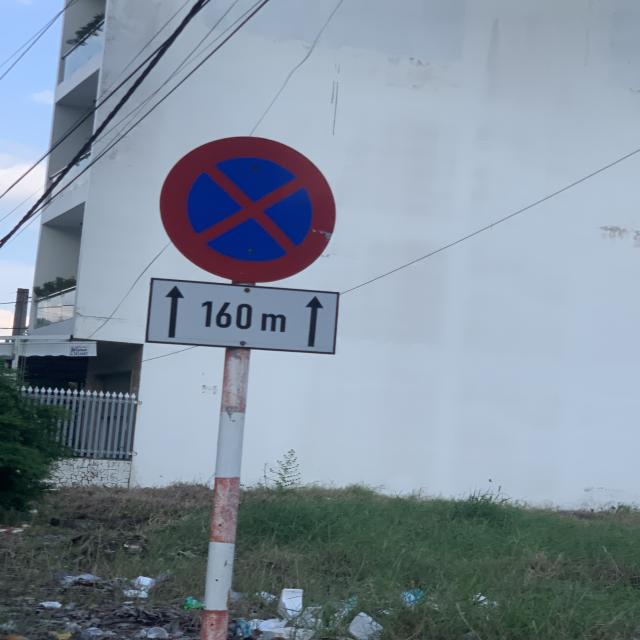Cam_Dung_Va_Dau_Xe: (161, 135, 339, 285)
